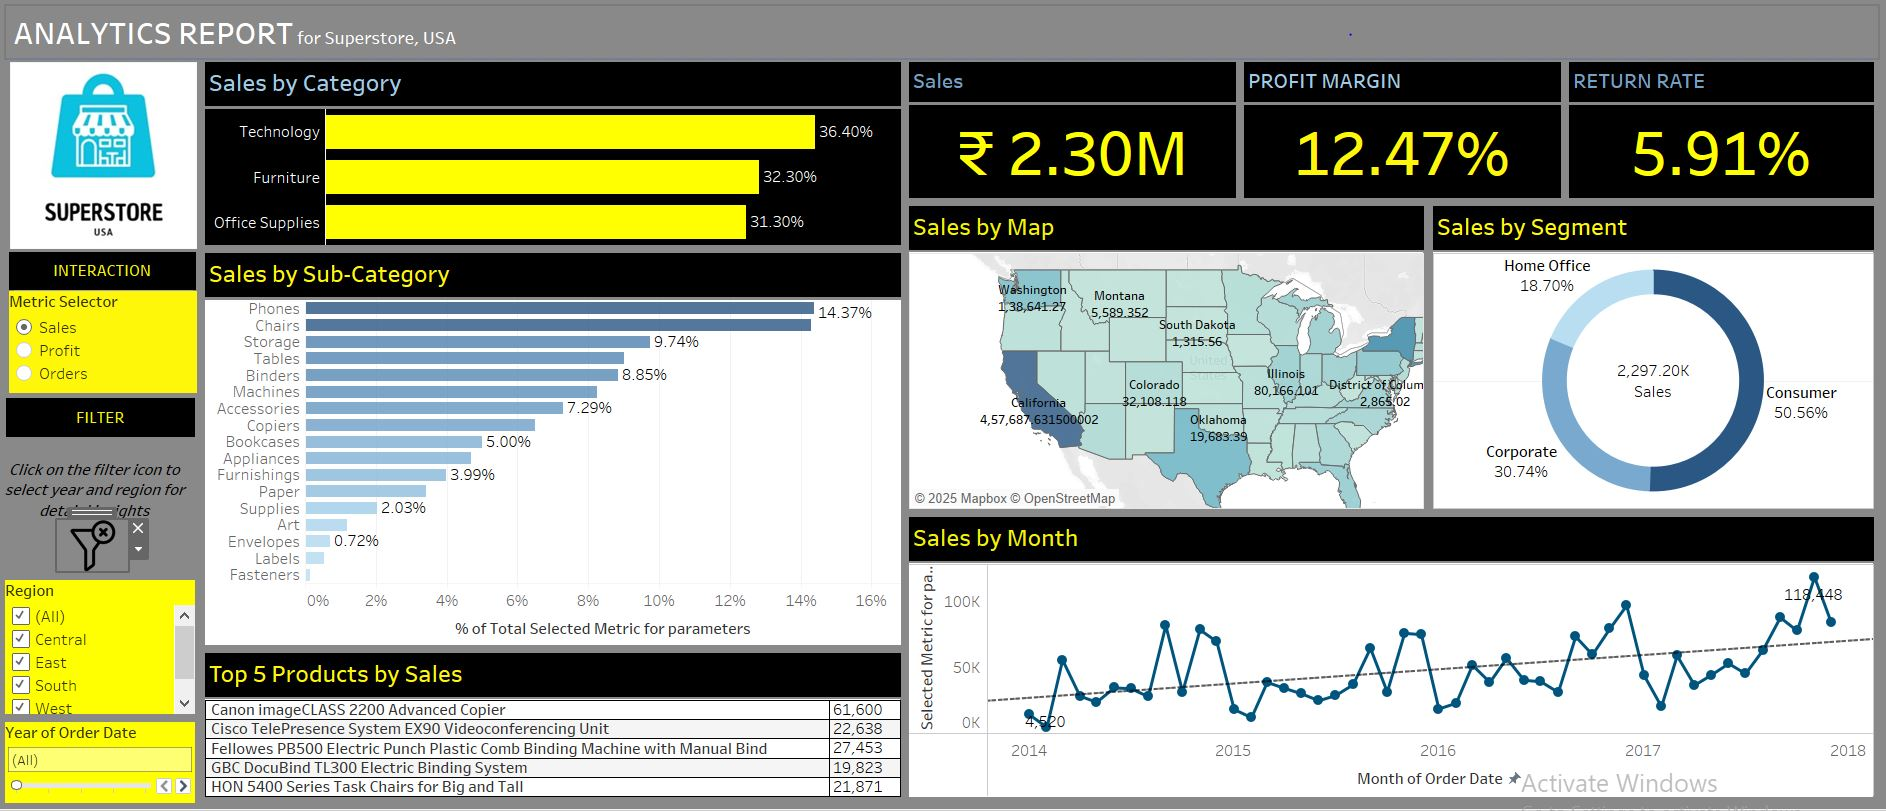

The page's visual inventory and layout, read from the dashboard file:
{"tool":"tableau","page":{"name":"Dashboard 2","canvas":[1000,1000],"units":"permille","ordinal":1},"visuals":[{"type":"title","box":[4.2,9.9,991.5,64.1]},{"type":"image","param":"Image/Picture2.jpg","box":[4.2,74,103.5,276.7]},{"type":"worksheet","title":"7th Question Sales by Category","mark":"Automatic","rows":["Category"],"cols":["Calculation_1507017075186171904"],"box":[107.8,74,372.9,235.3]},{"type":"worksheet","title":"7th Question Sales KPI","mark":"Automatic","box":[480.6,74,177.3,177.9]},{"type":"worksheet","title":"7th Question Profit Margin KPI","mark":"Automatic","box":[657.9,74,172.2,177.9]},{"type":"worksheet","title":"Return Rate KPI 1","mark":"Automatic","box":[830.1,74,165.7,177.9]},{"type":"worksheet","title":"7th Question State Map","mark":"Multipolygon","box":[480.6,251.9,277.2,383.1]},{"type":"worksheet","title":"7th Question Segment by sales","mark":"Pie","rows":["Calculation_182677305935097857","Calculation_182677305935097857"],"box":[757.8,251.9,237.9,383.1]},{"type":"worksheet","title":"7th Question Sales by Sub-Category","mark":"Automatic","rows":["Sub-Category"],"cols":["Calculation_1507017075186171904"],"box":[107.8,309.3,372.9,494]},{"type":"worksheet","title":"Sheet 21","mark":"Automatic","box":[5.8,313.2,99,46.9]},{"type":"legend","title":"7th Question Sales by Sub-Category","param":"[federated.1oq3lee00248901g9235b0cfv3f4].[usr:Calculation_1507017075186171904:qk","box":[4.2,350.7,103.5,356.4]},{"type":"parameter","param":"[Parameters].[Parameter 2]","box":[5.8,361.3,99.6,125.8]},{"type":"worksheet","title":"Selected Metric Field","mark":"Text","box":[109.1,472.3,4.2,12.3]},{"type":"worksheet","title":"Sheet 20","mark":"Automatic","box":[4.2,493.2,100.2,48.1]},{"type":"text","box":[1.6,558.6,99.6,96.2]},{"type":"worksheet","title":"7th Question Sales Trend","mark":"Automatic","rows":["Calculation_1507017075186171904","Calculation_1286903638847582242"],"cols":["Order Date"],"box":[480.6,635,515.1,355.1]},{"type":"dashboard-object","box":[31.4,643.6,37.4,62.9]},{"type":"filter","title":"Region and order date Slicer","param":"[federated.1oq3lee00248901g9235b0cfv3f4].[none:Region:nk]","box":[1.8,712.7,105,175.1]},{"type":"worksheet","title":"7th Question Top N Metrics","mark":"Automatic","rows":["Product Name"],"box":[107.8,803.3,372.9,186.8]},{"type":"filter","title":"Region and order date Slicer","param":"[federated.1oq3lee00248901g9235b0cfv3f4].[yr:Order Date:ok]","box":[1.8,887.8,105,109.7]}]}

Visuals, with their boxes on the dashboard's canvas, which has no fixed pixel size, in thousandths of its width and height (x1, y1, x2, y2). These are canvas units, not pixel positions in the 1886x811 screenshot, which may show the page scaled, cropped or inside an application window:
title: <box>4,10,996,74</box>
image: <box>4,74,108,351</box>
"7th Question Sales by Category" worksheet: <box>108,74,481,309</box>
"7th Question Sales KPI" worksheet: <box>481,74,658,252</box>
"7th Question Profit Margin KPI" worksheet: <box>658,74,830,252</box>
"Return Rate KPI 1" worksheet: <box>830,74,996,252</box>
"7th Question State Map" worksheet (Multipolygon marks): <box>481,252,758,635</box>
"7th Question Segment by sales" worksheet (Pie marks): <box>758,252,996,635</box>
"7th Question Sales by Sub-Category" worksheet: <box>108,309,481,803</box>
"Sheet 21" worksheet: <box>6,313,105,360</box>
"7th Question Sales by Sub-Category" legend: <box>4,351,108,707</box>
parameter: <box>6,361,105,487</box>
"Selected Metric Field" worksheet (Text marks): <box>109,472,113,485</box>
"Sheet 20" worksheet: <box>4,493,104,541</box>
text: <box>2,559,101,655</box>
"7th Question Sales Trend" worksheet: <box>481,635,996,990</box>
dashboard-object: <box>31,644,69,706</box>
"Region and order date Slicer" filter: <box>2,713,107,888</box>
"7th Question Top N Metrics" worksheet: <box>108,803,481,990</box>
"Region and order date Slicer" filter: <box>2,888,107,998</box>
